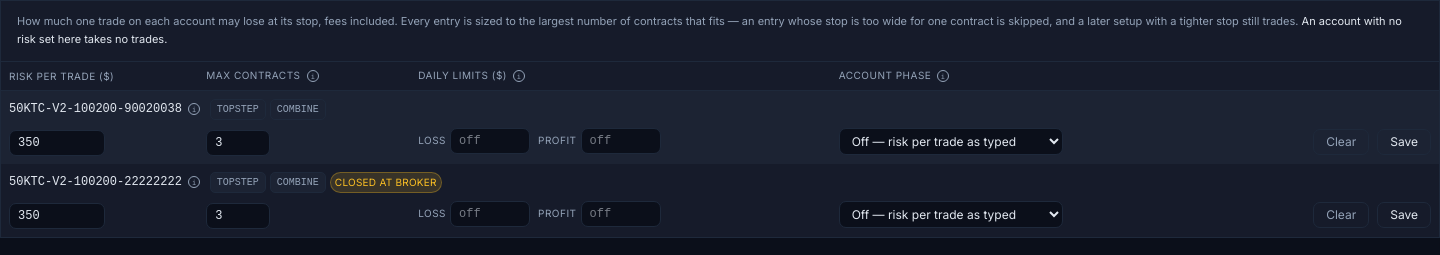
AccountRiskBlock — which accounts are listed › drops the dead account once its risk is cleared
Click the 2nd button "Clear": point(1341, 215) [1313, 202, 1369, 228]
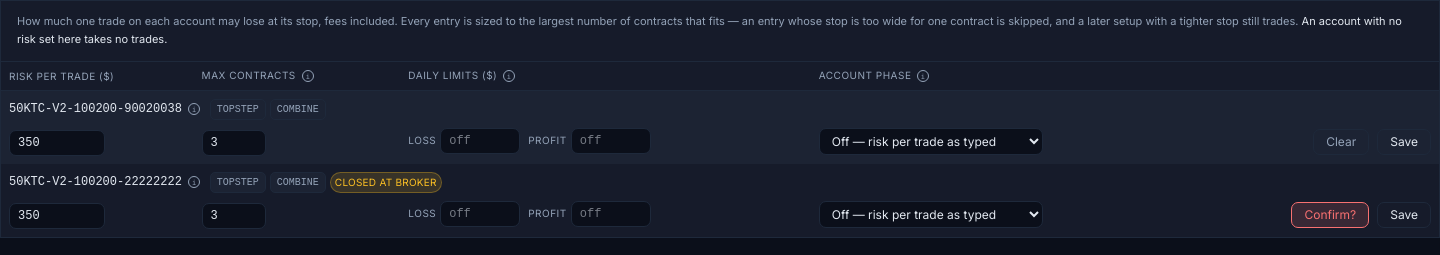
Click the button "Confirm?": point(1330, 215) [1292, 202, 1369, 228]
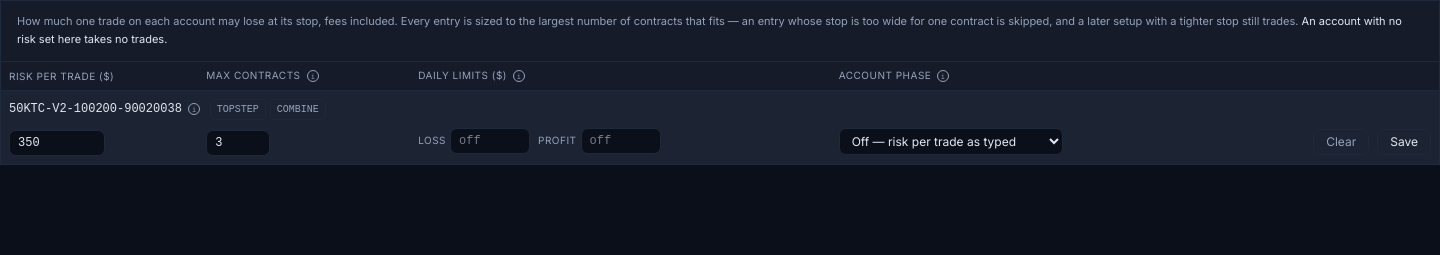
Now the text "50KTC-V2-100200-22222222" is gone
